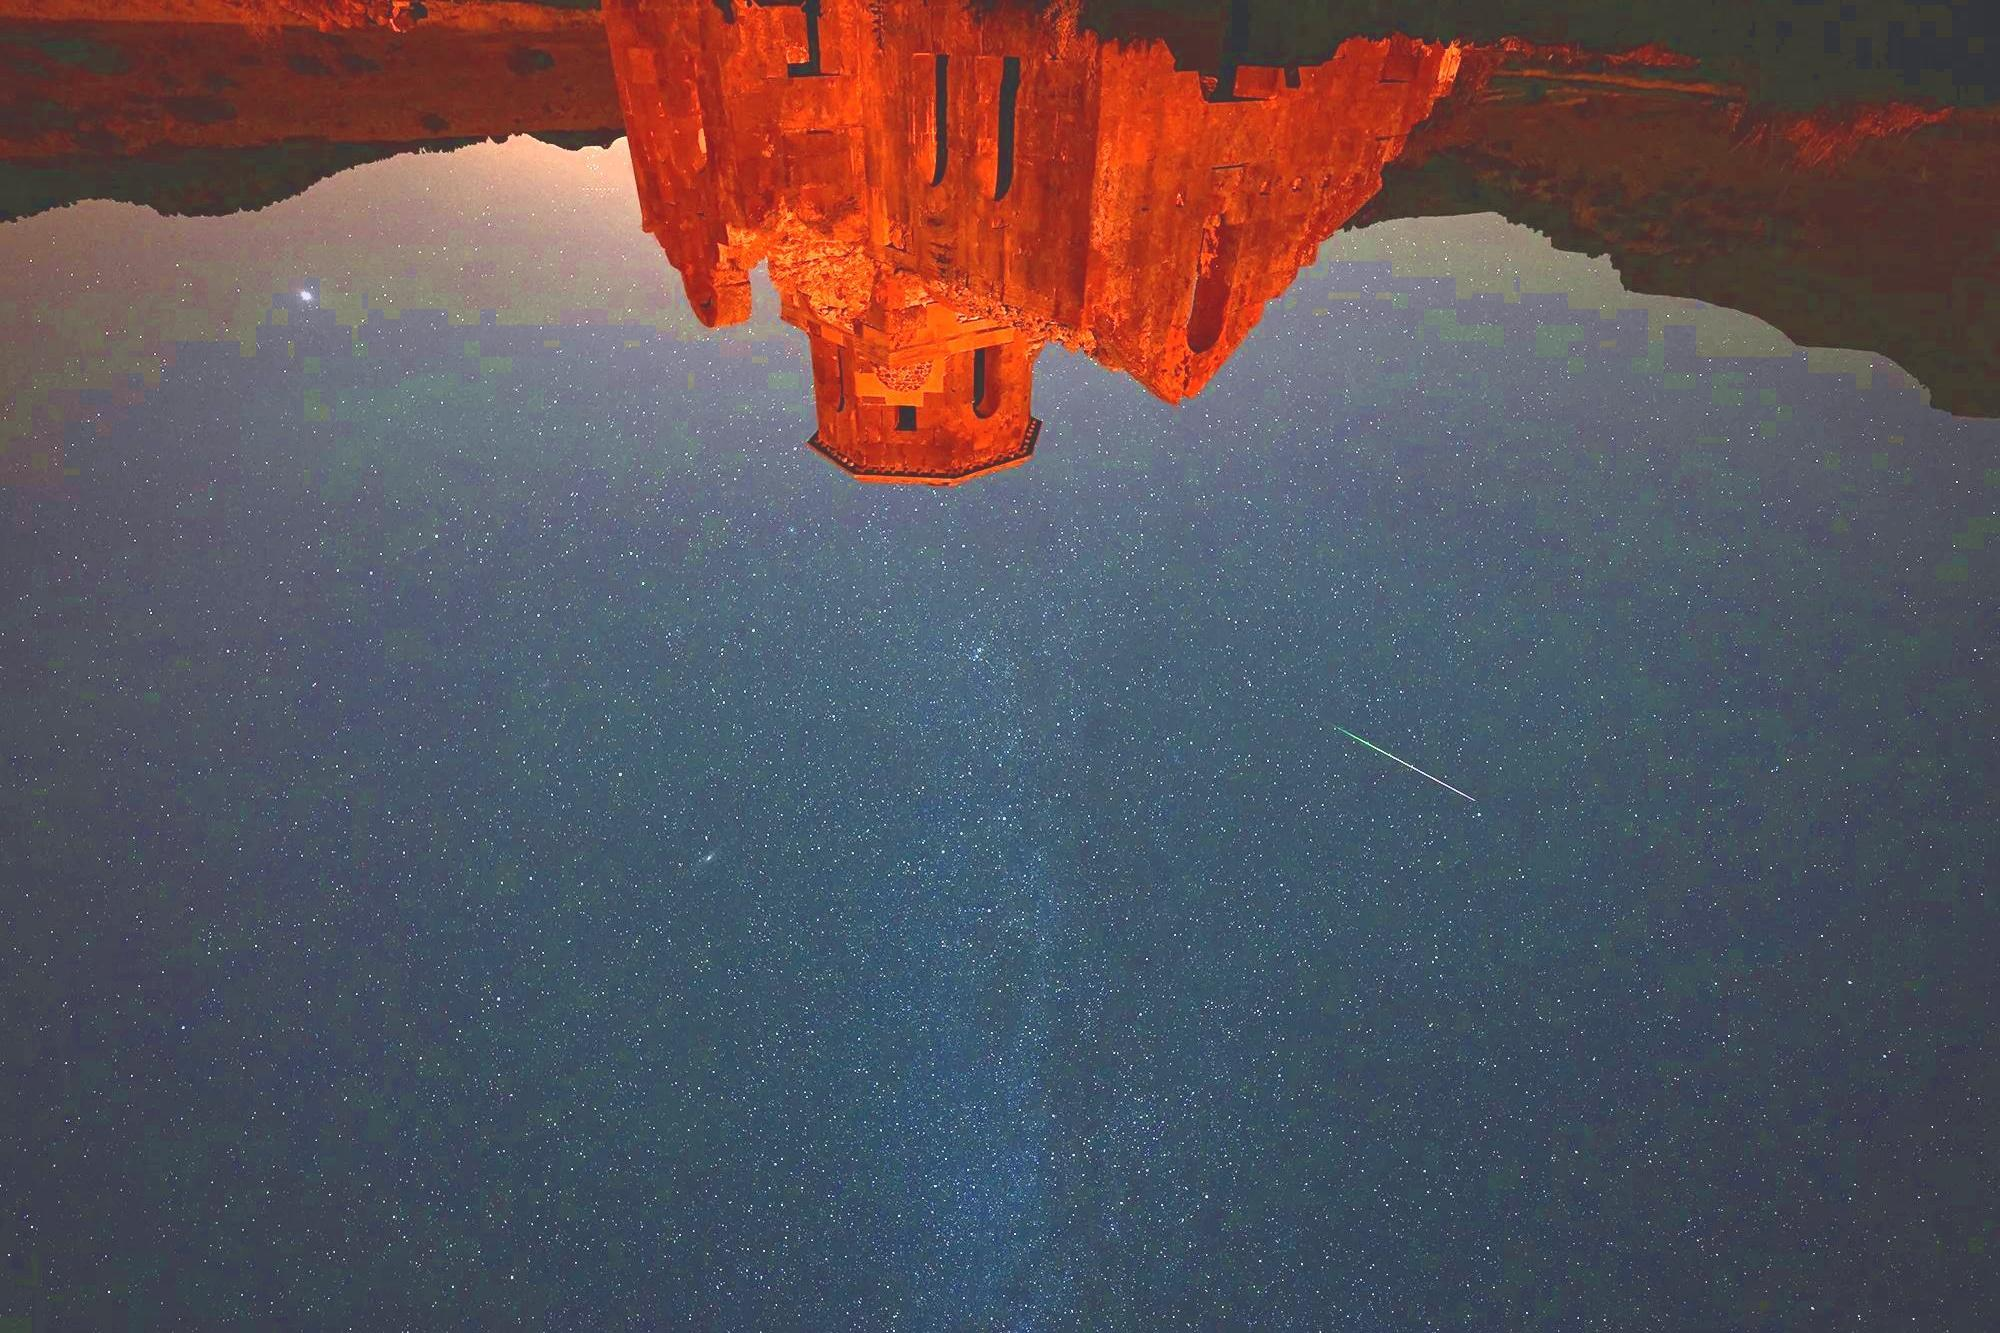meteorite: (1297, 704, 1506, 824)
